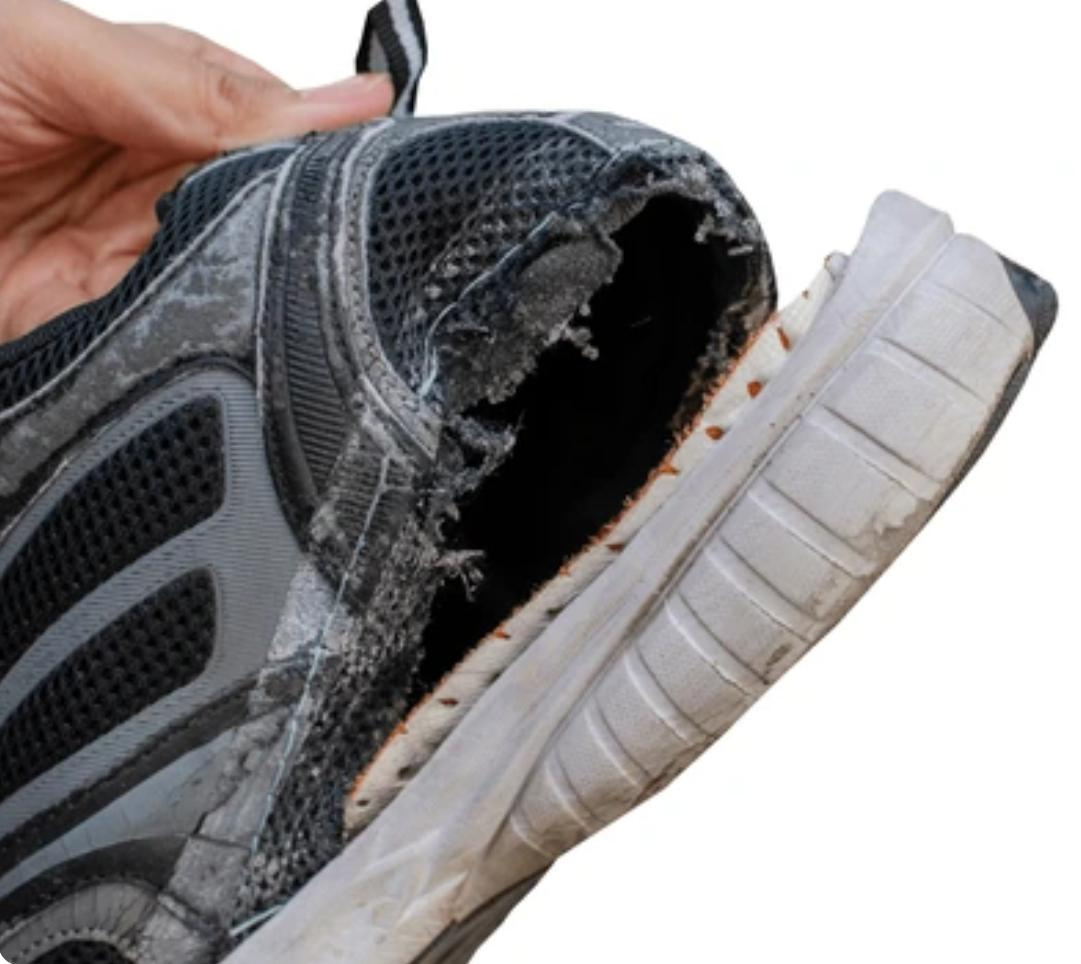bonding: (331, 144, 893, 851)
